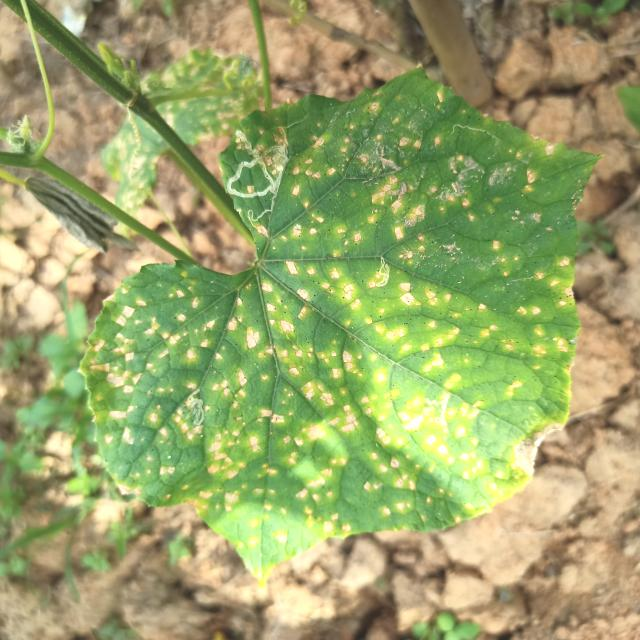disease_cucumber: (97, 111, 563, 531)
